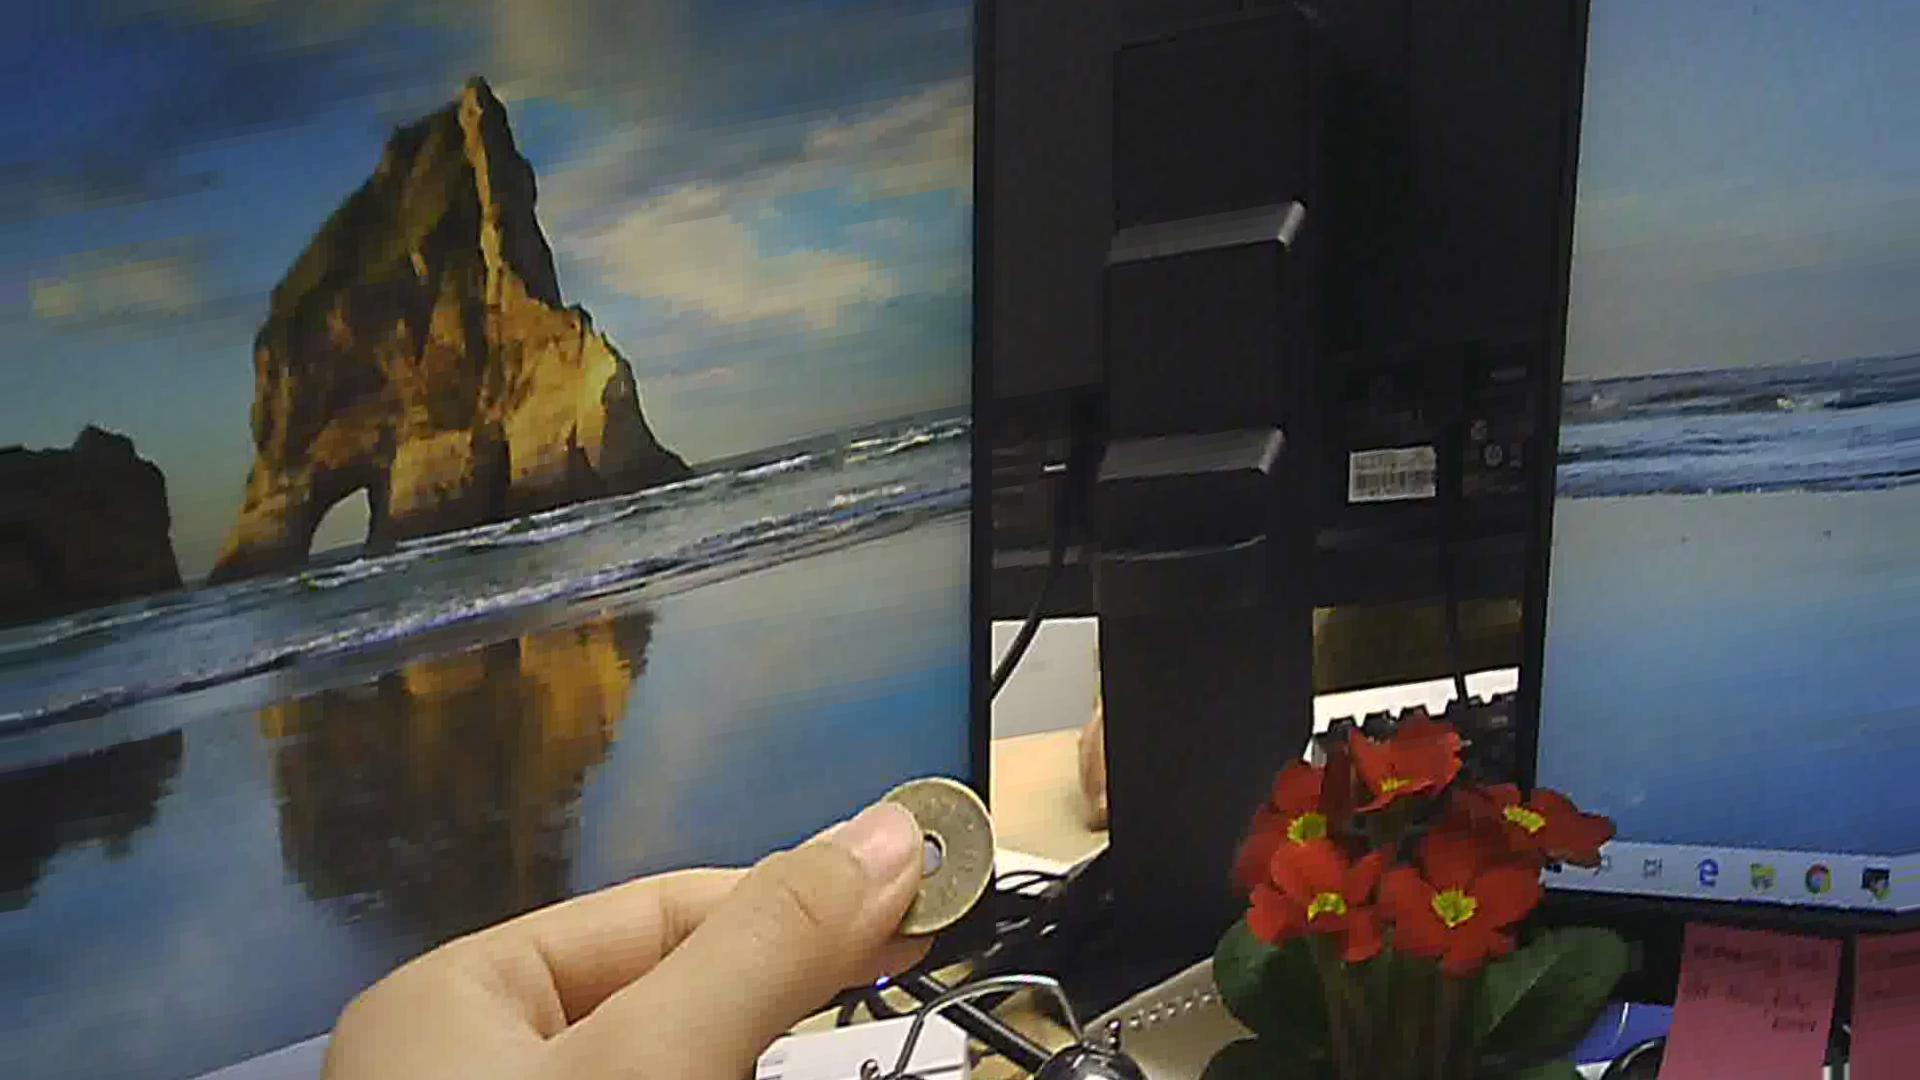5 Yen: (851, 765, 1002, 934)
